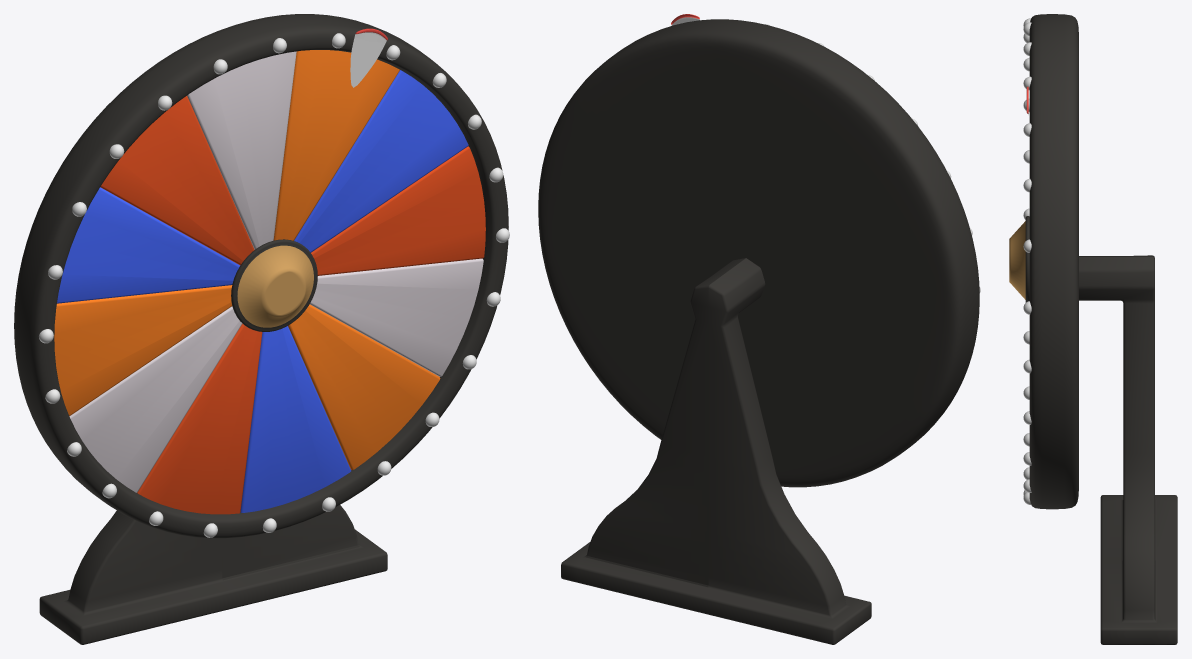
File: RouletteMachine.fbx
The picture shows the model from 3 angles, left to right: view 1: azimuth 30°, elevation 25°; view 2: azimuth 150°, elevation 25°; view 3: azimuth 270°, elevation 25°; orthographic projection. The views are drawn at different scales.
Visible parts, largest first — view 1: Valores_Ruleta, Marco_Ruleta, Base, Eje, Luces_espheres, Plano.002; view 2: Marco_Ruleta, Base; view 3: Marco_Ruleta, Base, Luces_espheres, Eje.
Boxes of the visible parts, <box> form: Valores_Ruleta: <box>54,50,485,514</box>; Marco_Ruleta: <box>14,14,508,538</box>; Base: <box>39,505,387,644</box>; Eje: <box>231,239,317,331</box>; Luces_espheres: <box>39,33,509,537</box>; Plano.002: <box>350,28,387,87</box>; Marco_Ruleta: <box>538,19,979,487</box>; Base: <box>561,258,871,644</box>; Marco_Ruleta: <box>1029,14,1078,509</box>; Base: <box>1079,255,1177,644</box>; Luces_espheres: <box>1023,18,1031,504</box>; Eje: <box>1009,216,1029,302</box>.
Size of the model in its own units: 99.67 by 120 by 33.87.
